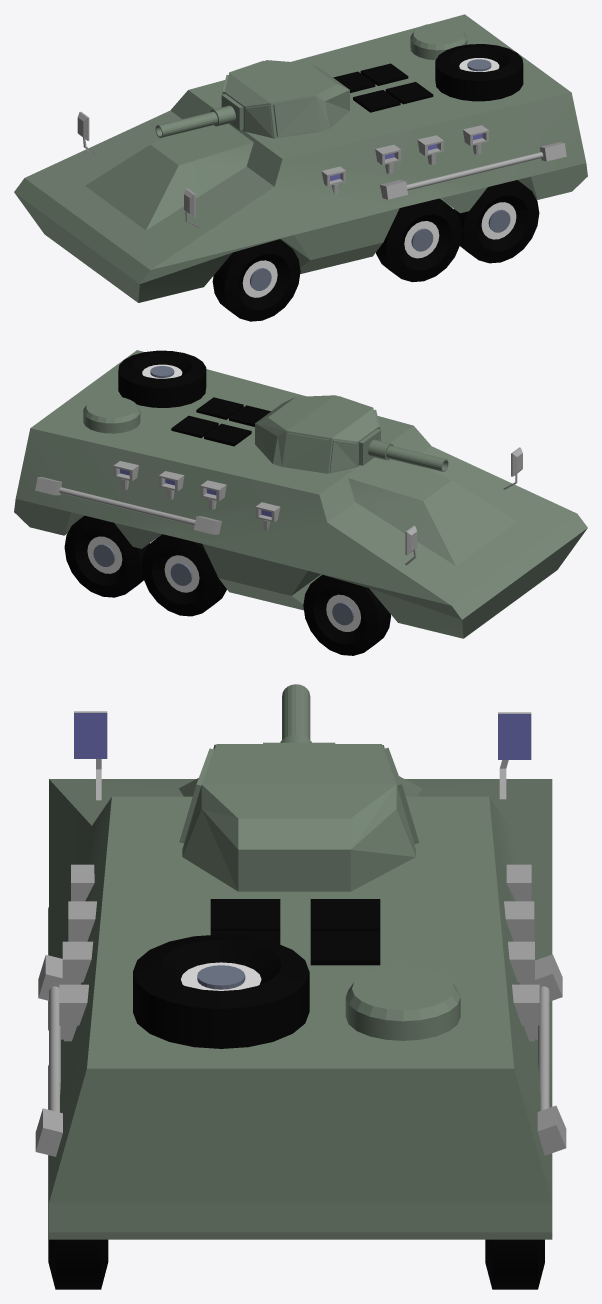
File: ArmoredCar 2.fbx
3 views of the same model, one above another, from view 1: azimuth 30°, elevation 25°; view 2: azimuth 150°, elevation 25°; view 3: azimuth 270°, elevation 25° (orthographic). The views are drawn at different scales.
Visible parts, largest first — view 1: pCube149, pCube150, pCylinder105, pCylinder104, pCylinder103, pCylinder106, pCylinder94, pCylinder93, pCylinder95, pCube151, pCube153, pCube154 (+6 smaller); view 2: pCube149, pCube150, pCylinder101, pCylinder102, pCylinder86, pCylinder106, pCylinder94, pCylinder93, pCylinder96, pCube152, pCube154, pCube153 (+6 smaller); view 3: pCube149, pCube150, pCylinder106, pCylinder94, pCylinder103, pCylinder86, pCube153, pCube151, pCube152, pCube162, pCube163, pCylinder93 (+14 smaller).
Boxes of the visible parts, x1,y1,x2,y2 form: pCube149: (14, 14, 587, 302); pCube150: (221, 60, 349, 138); pCylinder105: (212, 239, 300, 321); pCylinder104: (376, 198, 461, 282); pCylinder103: (454, 180, 539, 263); pCylinder106: (435, 44, 523, 101); pCylinder94: (410, 23, 467, 60); pCylinder93: (155, 105, 235, 137); pCylinder95: (407, 152, 543, 190); pCube151: (353, 90, 400, 112); pCube153: (360, 63, 408, 85); pCube154: (385, 82, 433, 104); pCube149: (14, 350, 587, 638); pCube150: (255, 395, 380, 473); pCylinder101: (303, 575, 390, 655); pCylinder102: (141, 534, 226, 616); pCylinder86: (64, 515, 149, 597); pCylinder106: (118, 350, 206, 407); pCylinder94: (83, 396, 140, 433); pCylinder93: (368, 439, 448, 471); pCylinder96: (59, 487, 195, 525); pCube152: (204, 423, 251, 446); pCube154: (196, 397, 243, 419); pCube153: (171, 415, 218, 438); pCube149: (49, 776, 552, 1239); pCube150: (179, 742, 419, 891); pCylinder106: (133, 934, 309, 1048); pCylinder94: (345, 967, 460, 1040); pCylinder103: (48, 1155, 108, 1289); pCylinder86: (485, 1239, 544, 1289); pCube153: (310, 931, 380, 965); pCube151: (210, 899, 280, 930); pCube152: (310, 899, 380, 930); pCube162: (498, 712, 531, 799); pCube163: (74, 711, 107, 800); pCylinder93: (280, 684, 311, 742).
Size of the model in its own units: 1871 by 703 by 959.
